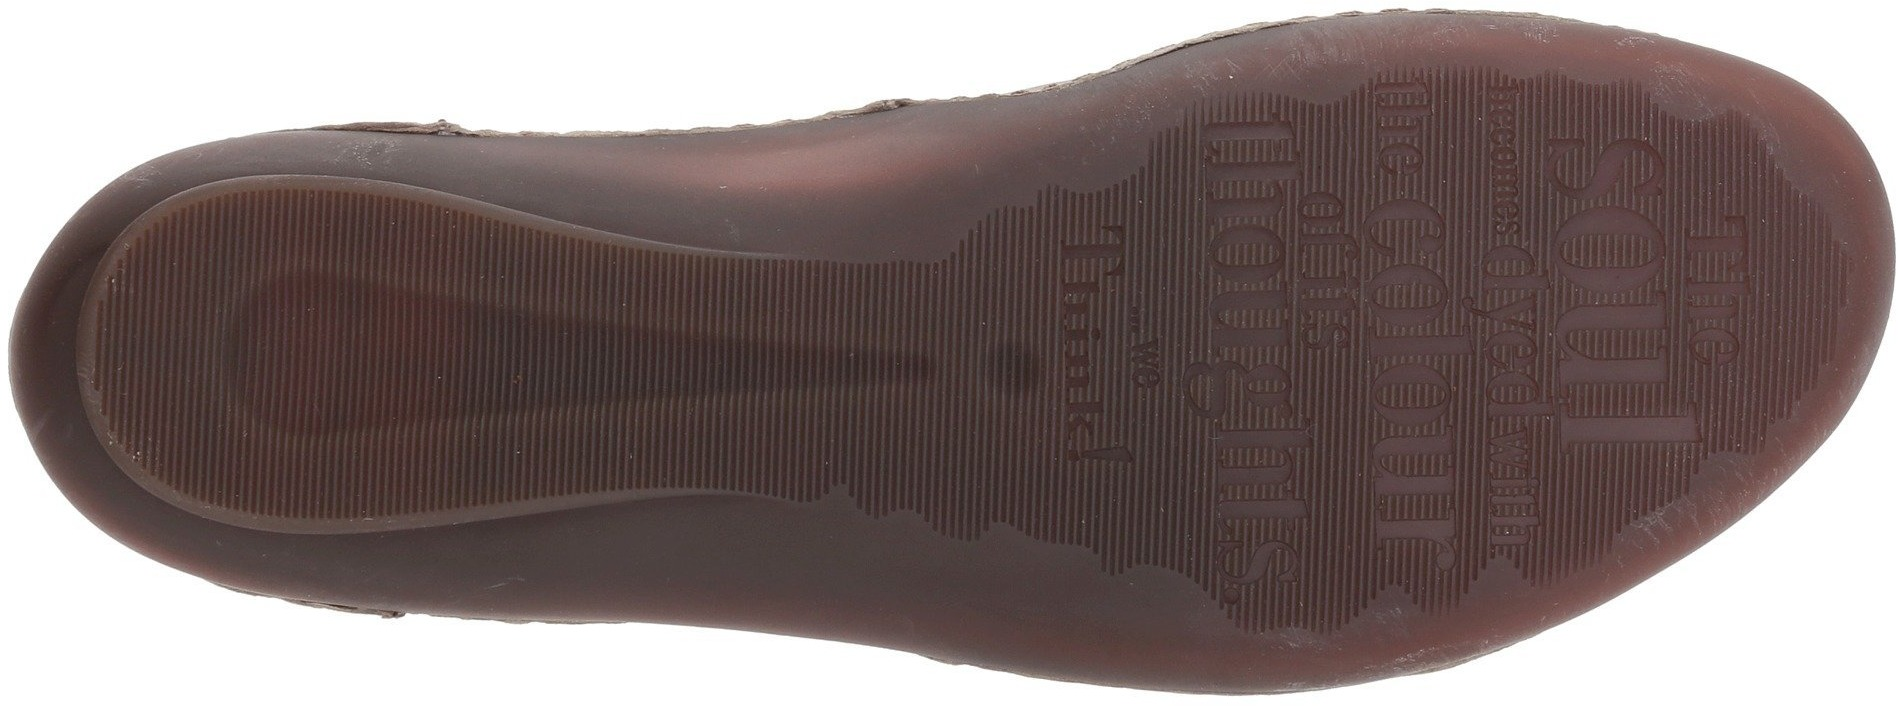line: (1545, 155, 1773, 378), (1361, 401, 1584, 599), (1040, 216, 1180, 492), (1368, 191, 1554, 396), (1184, 303, 1342, 446), (1189, 120, 1338, 259)
other: (748, 268, 999, 490), (329, 241, 547, 464), (108, 260, 324, 443), (550, 256, 740, 457)
text: (1545, 155, 1773, 378), (1361, 401, 1584, 599), (1040, 216, 1180, 492), (1368, 191, 1554, 396), (1184, 303, 1342, 446), (1189, 120, 1338, 259), (1401, 404, 1551, 539), (1381, 101, 1509, 253), (1045, 229, 1166, 375), (1574, 320, 1709, 450), (1551, 178, 1680, 306), (1214, 461, 1330, 564)
